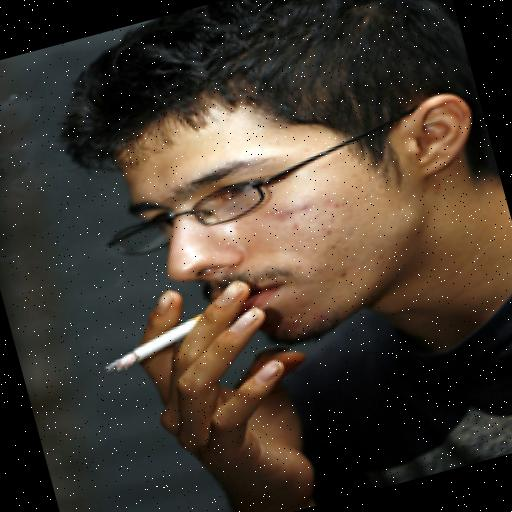terdeteksi merokok: (68, 232, 258, 454)
